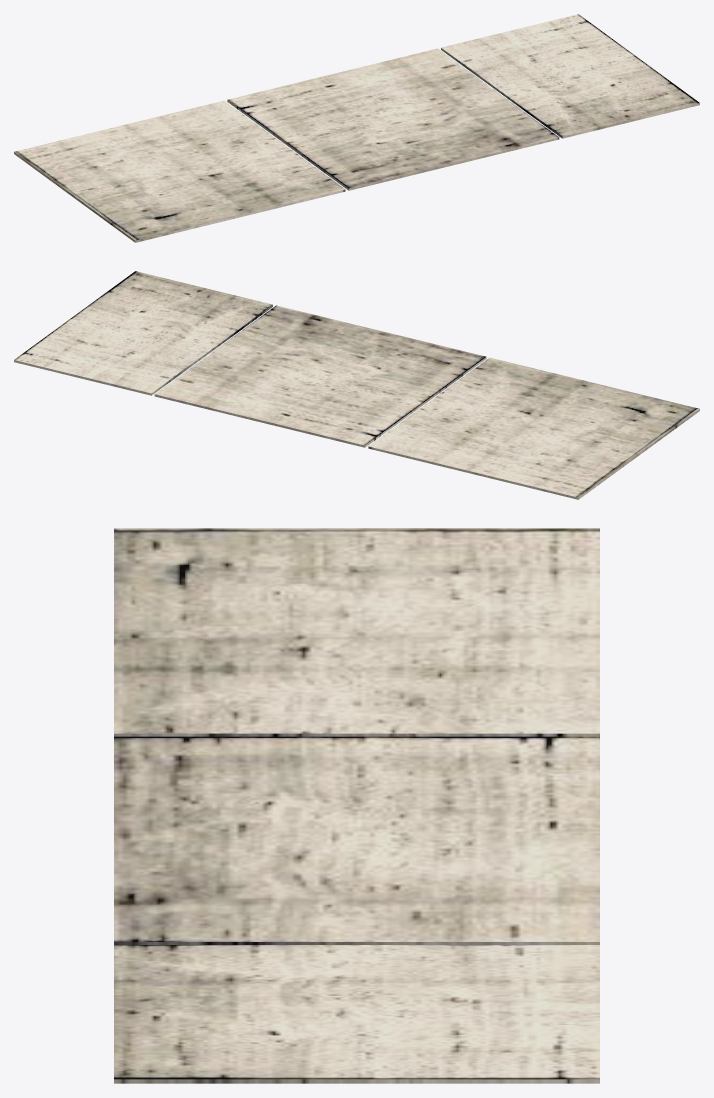
3 renders of one model, top to bottom at view 1: azimuth 30°, elevation 25°; view 2: azimuth 150°, elevation 25°; view 3: azimuth 270°, elevation 25°, orthographic. The views are drawn at different scales.
Visible parts, largest first — view 1: Cube.047; view 2: Cube.047; view 3: Cube.047.
Part boxes in pixels (x1,y1,x2,y2): Cube.047: [14, 14, 699, 242]; Cube.047: [14, 271, 699, 499]; Cube.047: [114, 528, 599, 1083].
Size of the model in its own units: 2.68 by 0.01 by 1.
